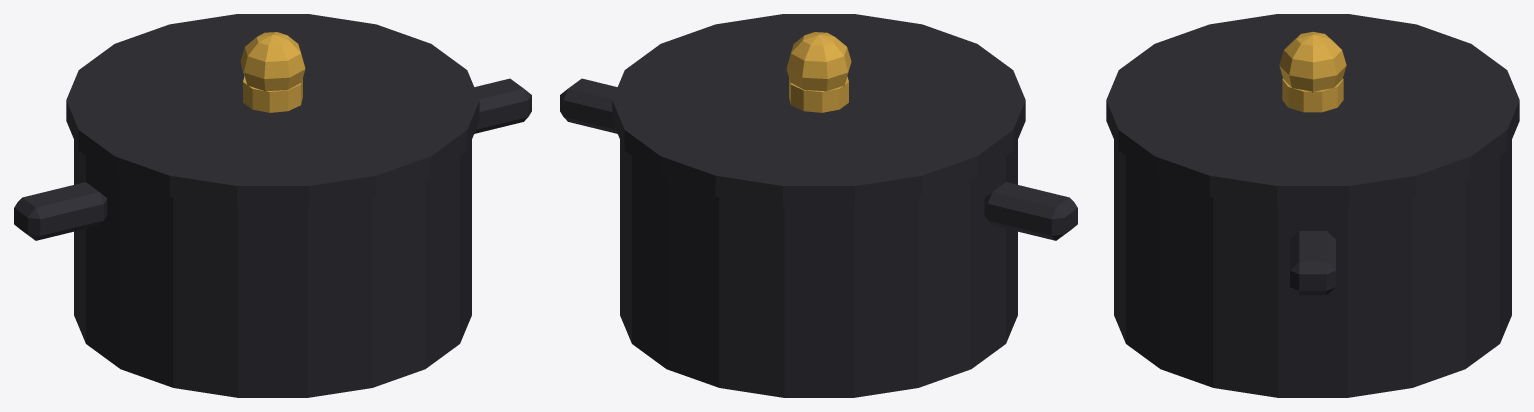
Rendered from pot.glb.
3 renders of one model, left to right at view 1: azimuth 30°, elevation 25°; view 2: azimuth 150°, elevation 25°; view 3: azimuth 270°, elevation 25°, orthographic.
Visible parts, largest first — view 1: pot; view 2: pot; view 3: pot.
Boxes of the visible parts, <box> form: pot: <box>14,14,531,397</box>; pot: <box>560,14,1077,397</box>; pot: <box>1106,14,1519,397</box>.
Size of the model in its own units: 0.38 by 0.202 by 0.27.
